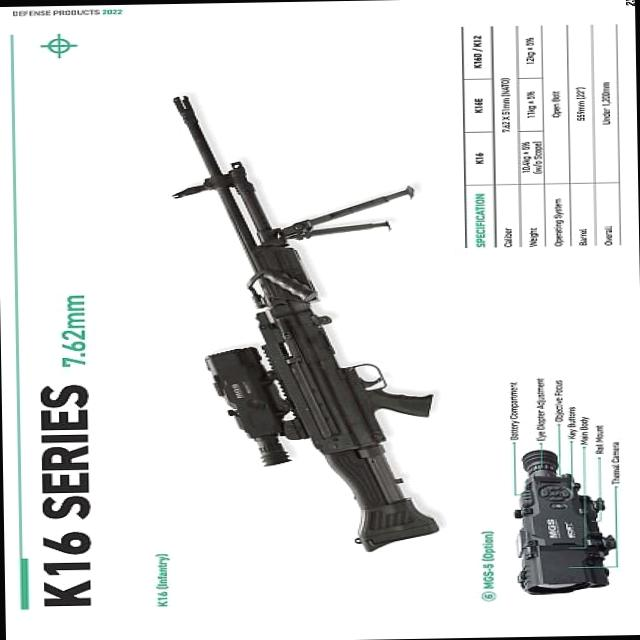long weapon: (165, 75, 444, 562)
